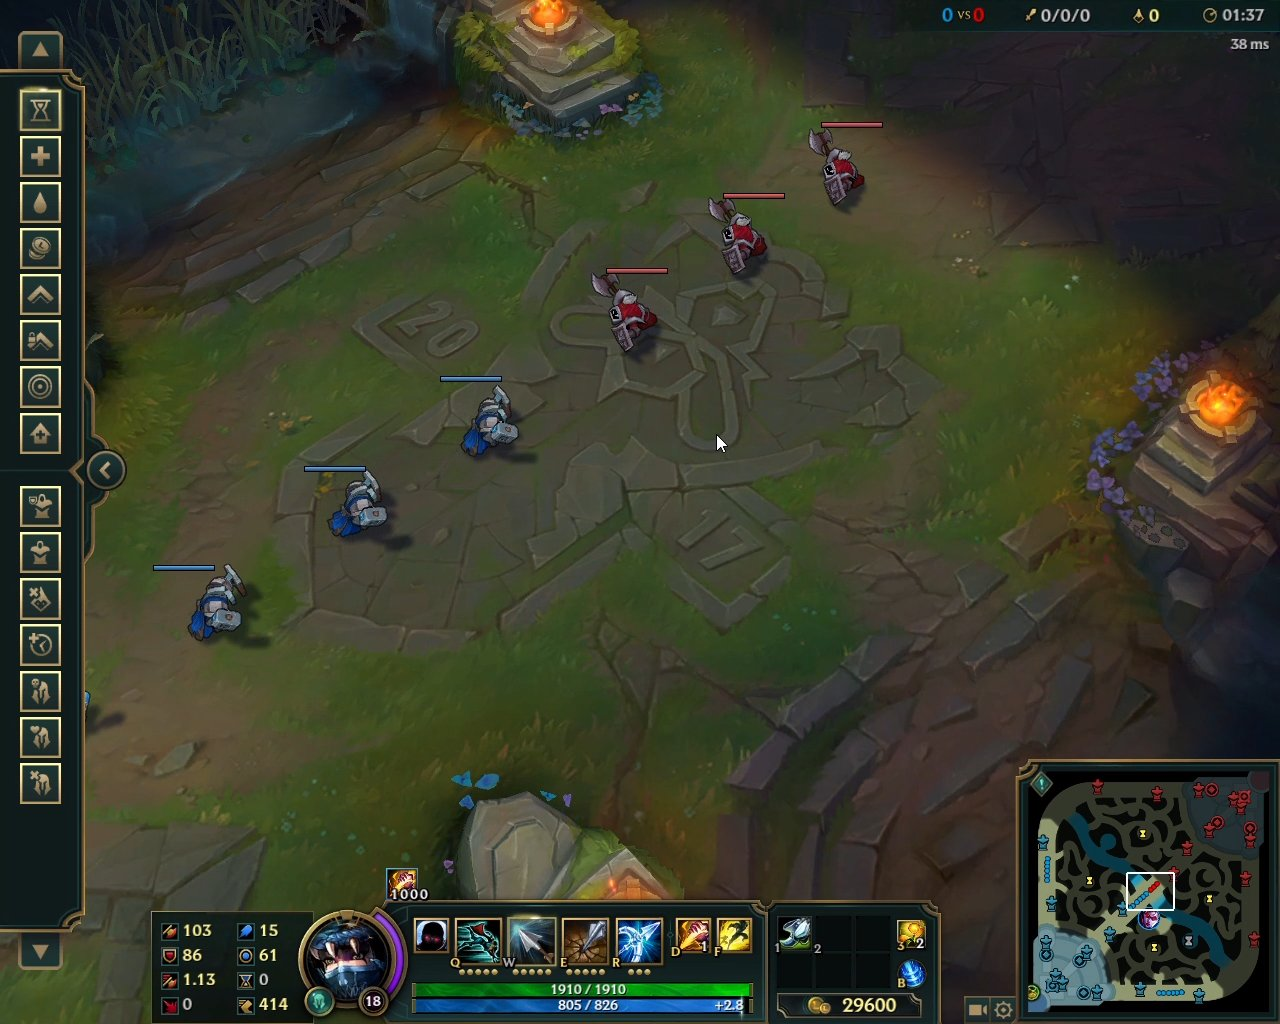Vayne: (595, 265, 667, 358), (802, 122, 883, 205), (707, 192, 784, 276)
